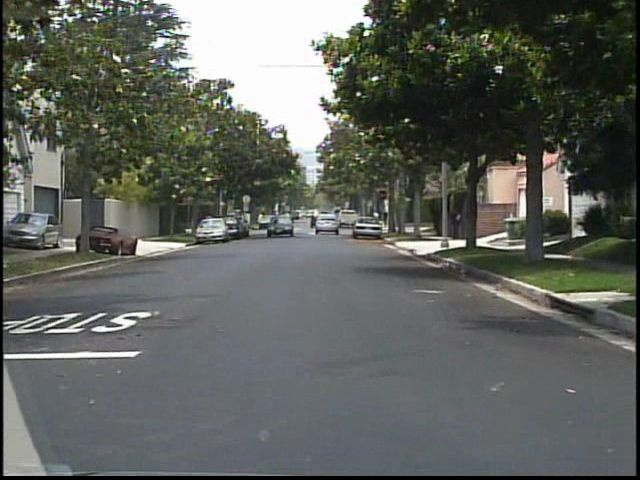person: (446, 200, 464, 242), (203, 209, 216, 233)
